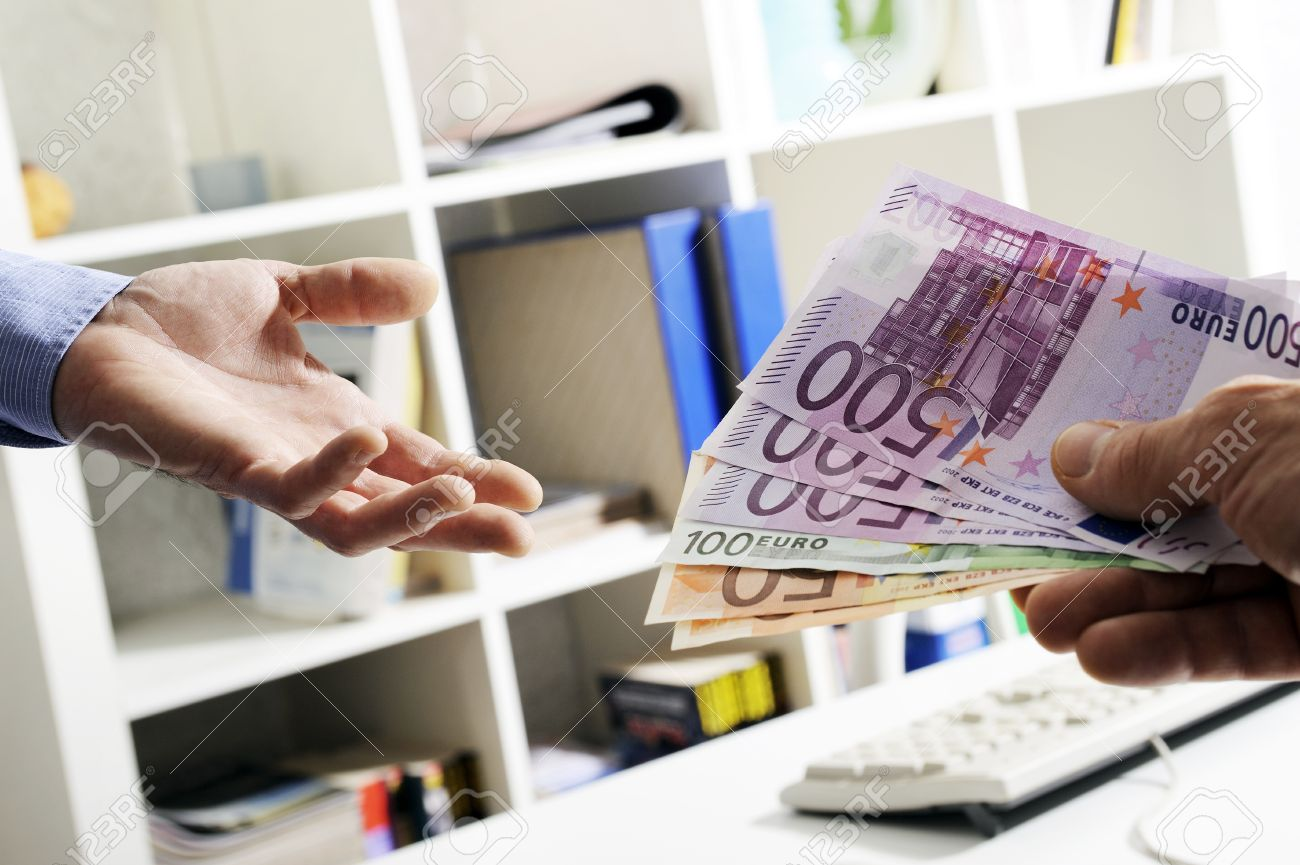billete: (641, 163, 1300, 649)
